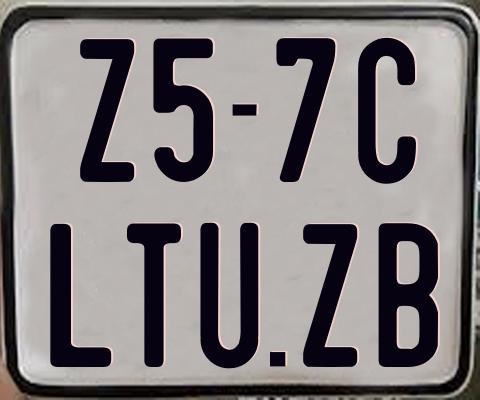5: (150, 37, 215, 184)
7: (276, 36, 335, 184)
B: (376, 220, 442, 369)
C: (356, 36, 420, 183)
L: (49, 224, 110, 370)
T: (127, 222, 182, 369)
U: (199, 221, 261, 371)
Z: (78, 36, 137, 179), (300, 223, 357, 371)
